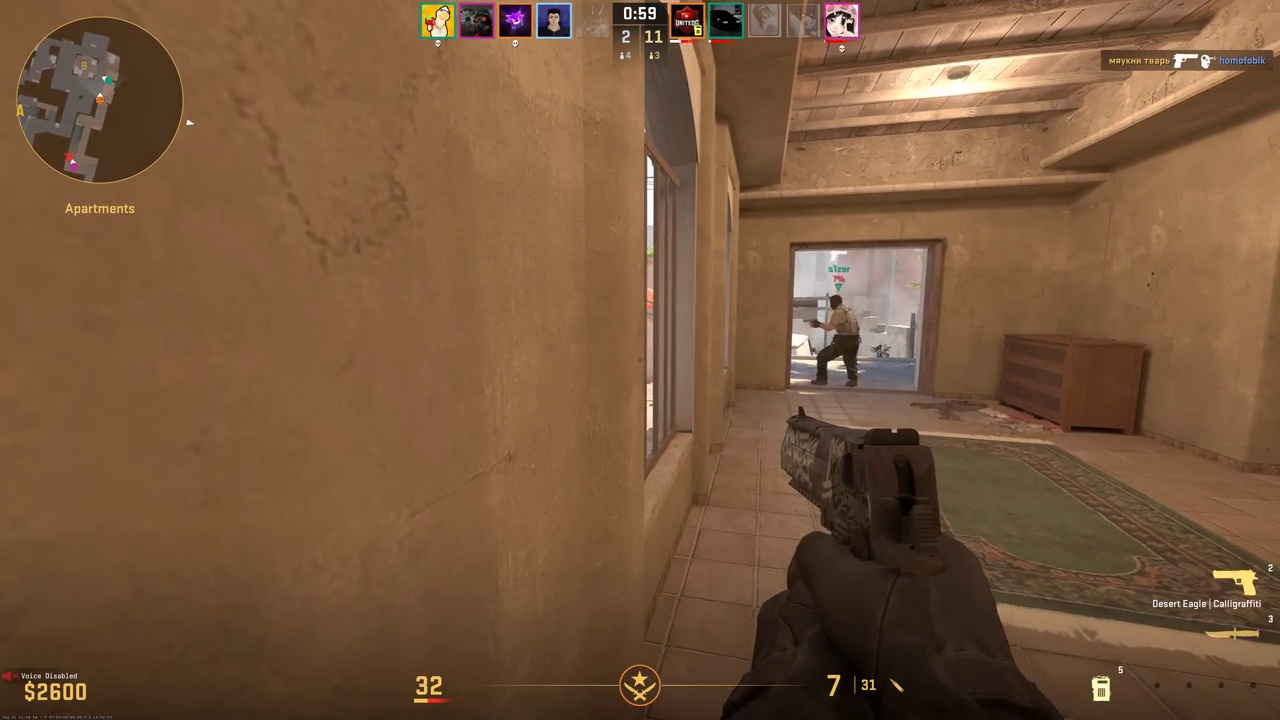Terrorist: (814, 295, 858, 386)
